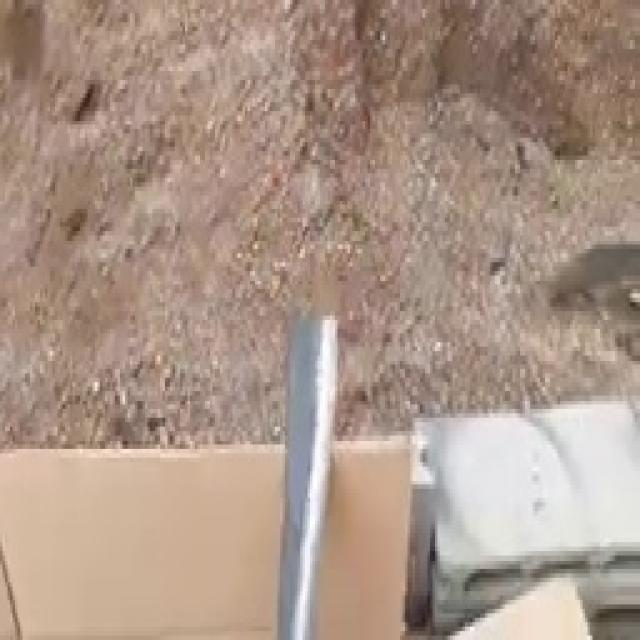eto: (282, 307, 346, 640)
